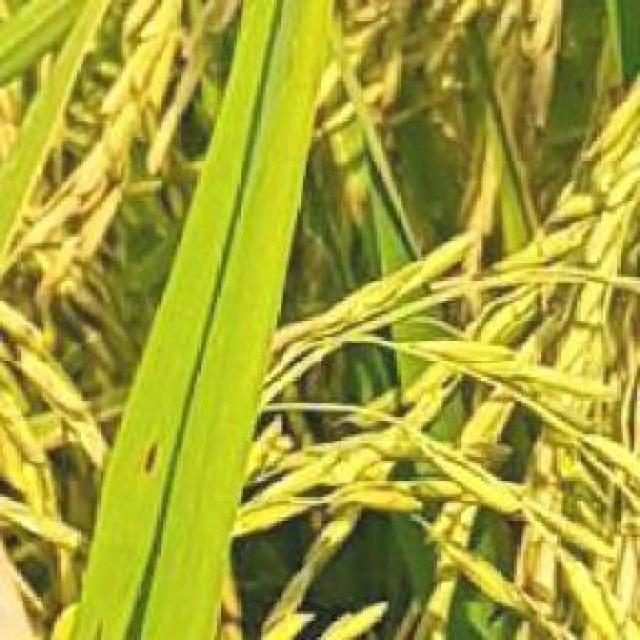Leaf_Blast: (201, 583, 241, 639), (129, 427, 168, 478), (86, 604, 109, 639)
